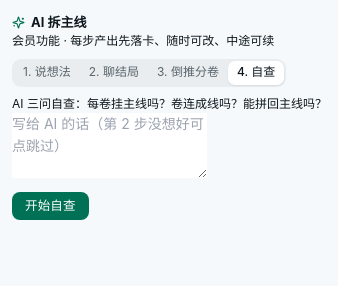
AI 拆主线向导（右栏） › 第 4 步自查结果渲染三问与结构归纳
The image size is (338, 286).
Type "自查" into the text box.
click(110, 146); type("自查")  # box [12,113,207,178]
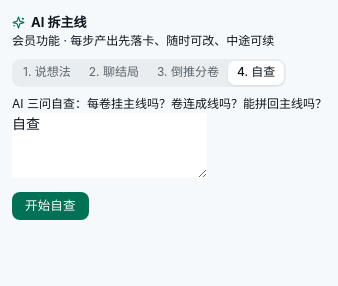
Click the button "开始自查".
click(50, 206)  # box [12,192,88,220]
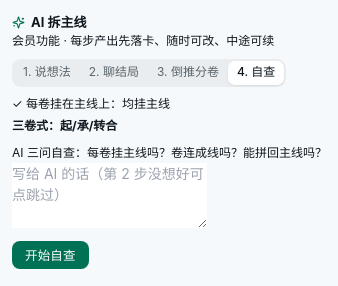
Now the text "三卷式：起/承/转合" is shown, box [12,118,117,133]
Now the text "✓ 每卷挂在主线上：均挂主线" is shown, box [12,96,170,111]
